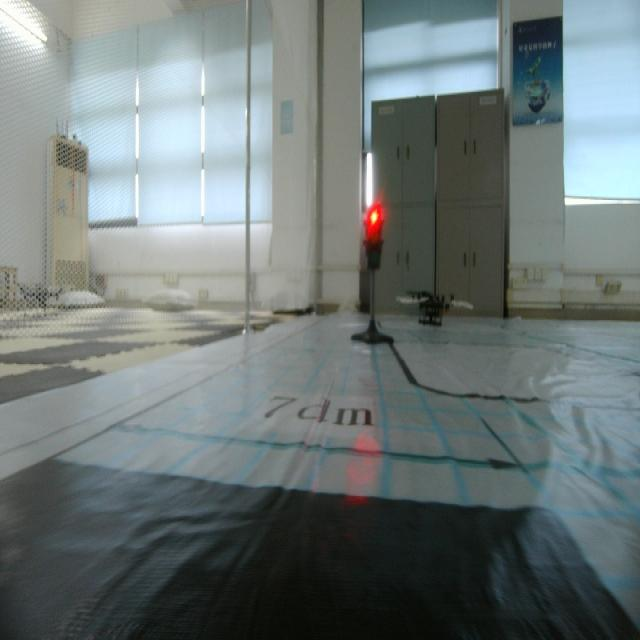red: (363, 204, 385, 278)
